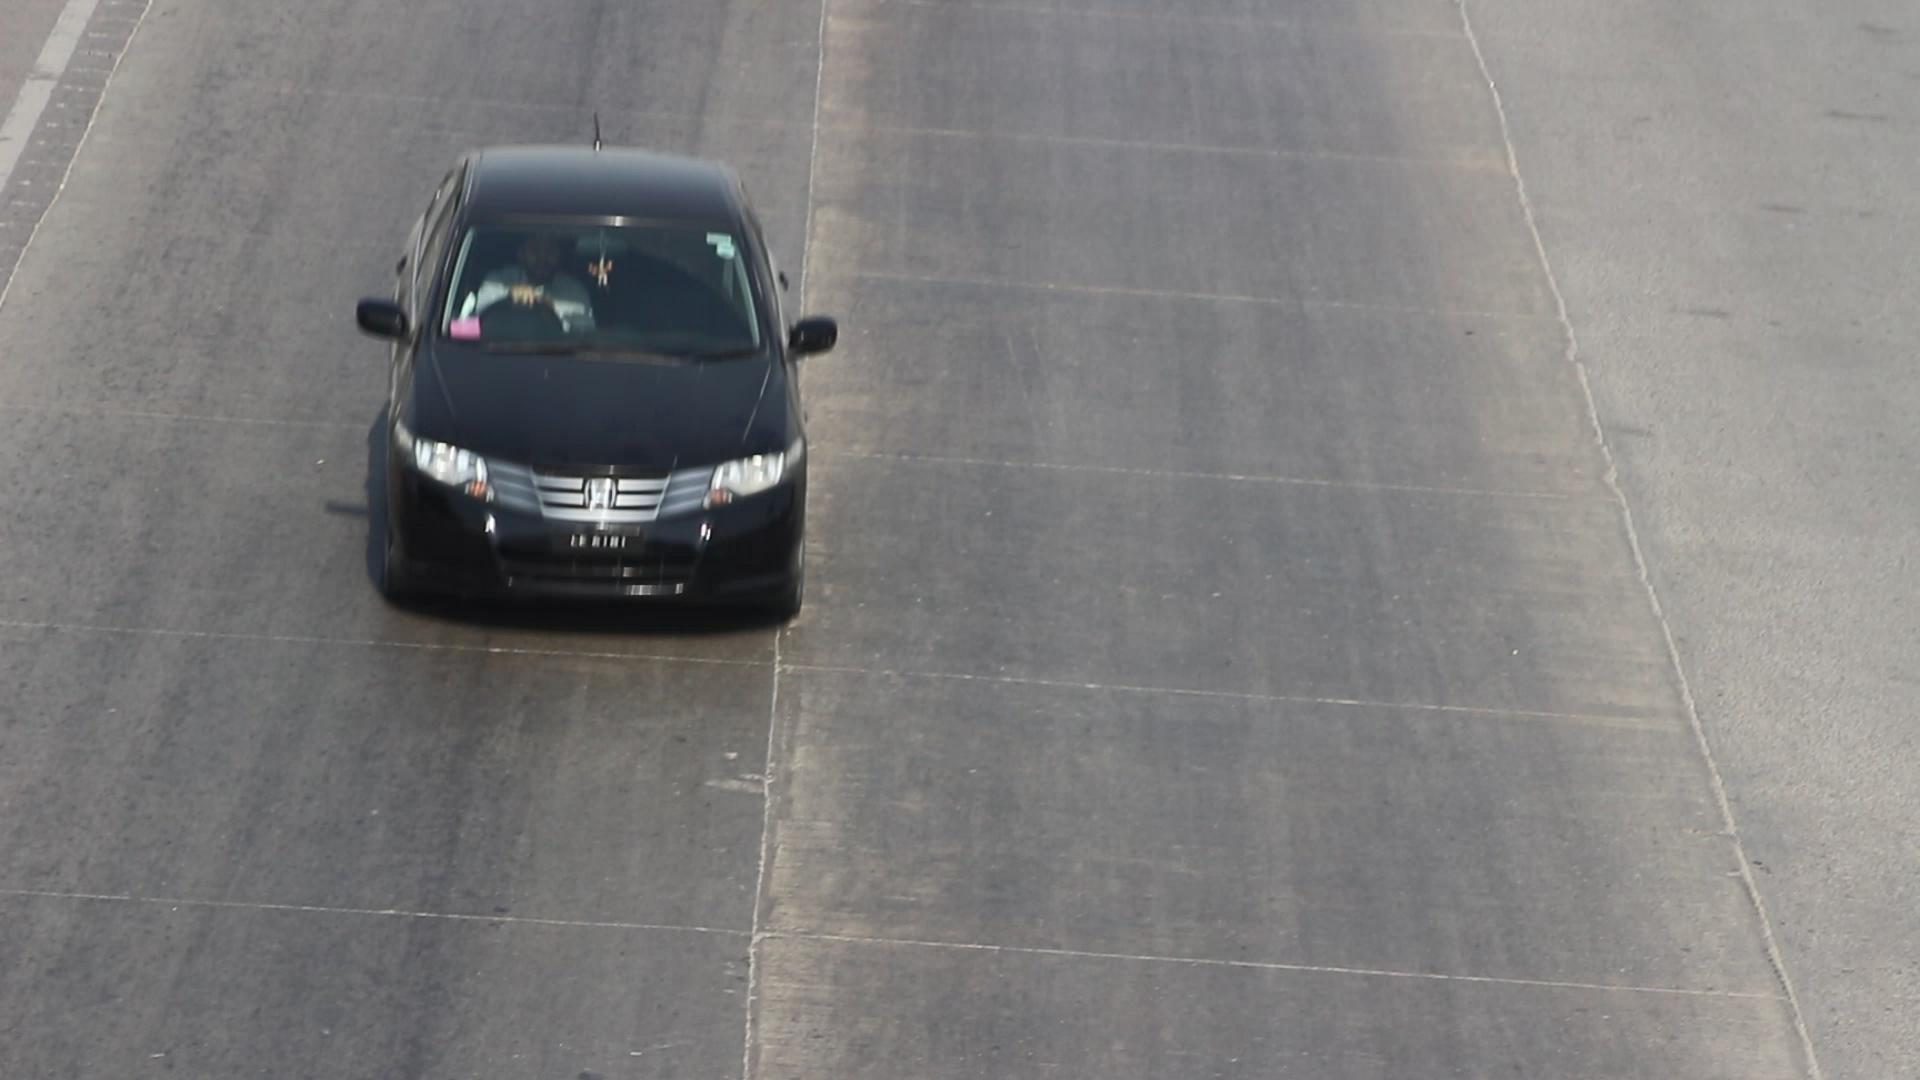windshield: (411, 187, 781, 364)
